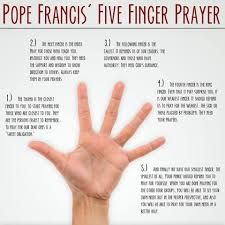palm: (27, 80, 168, 205)
